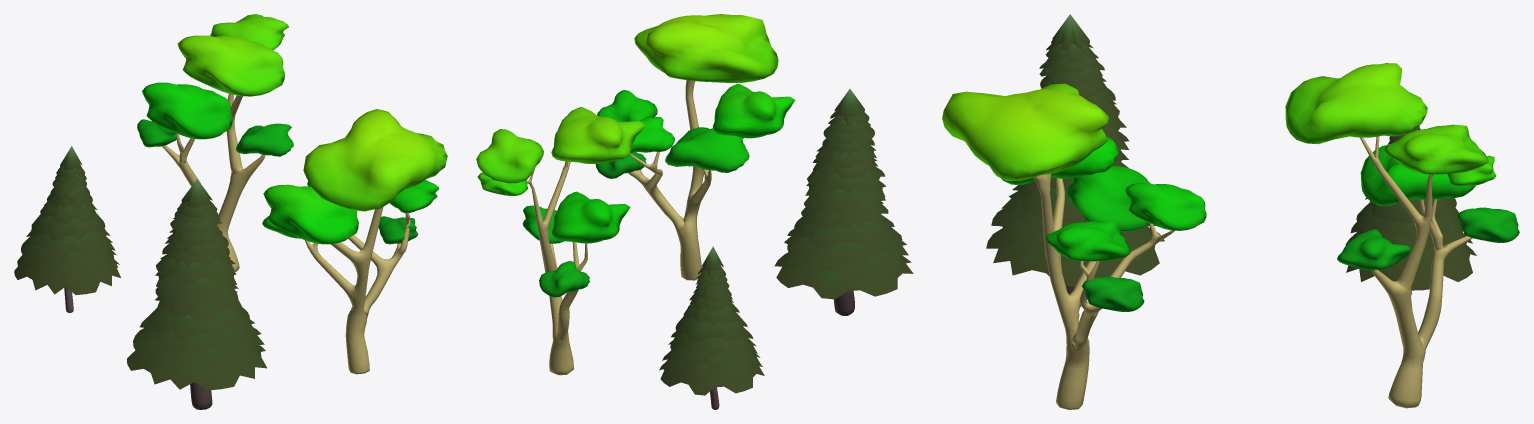
The picture shows the model from 3 angles, left to right: view 1: azimuth 30°, elevation 25°; view 2: azimuth 150°, elevation 25°; view 3: azimuth 270°, elevation 25°; orthographic projection. The views are drawn at different scales.
Visible parts, largest first — view 1: Object_5; view 2: Object_5; view 3: Object_5.
Boxes of the visible parts, x1,y1,x2,y2 form: Object_5: [14, 14, 447, 409]; Object_5: [476, 14, 913, 409]; Object_5: [942, 14, 1519, 409].
Bounding box in the file's own units: 6.51 × 5.25 × 8.65.
1 material, 1 textured.
